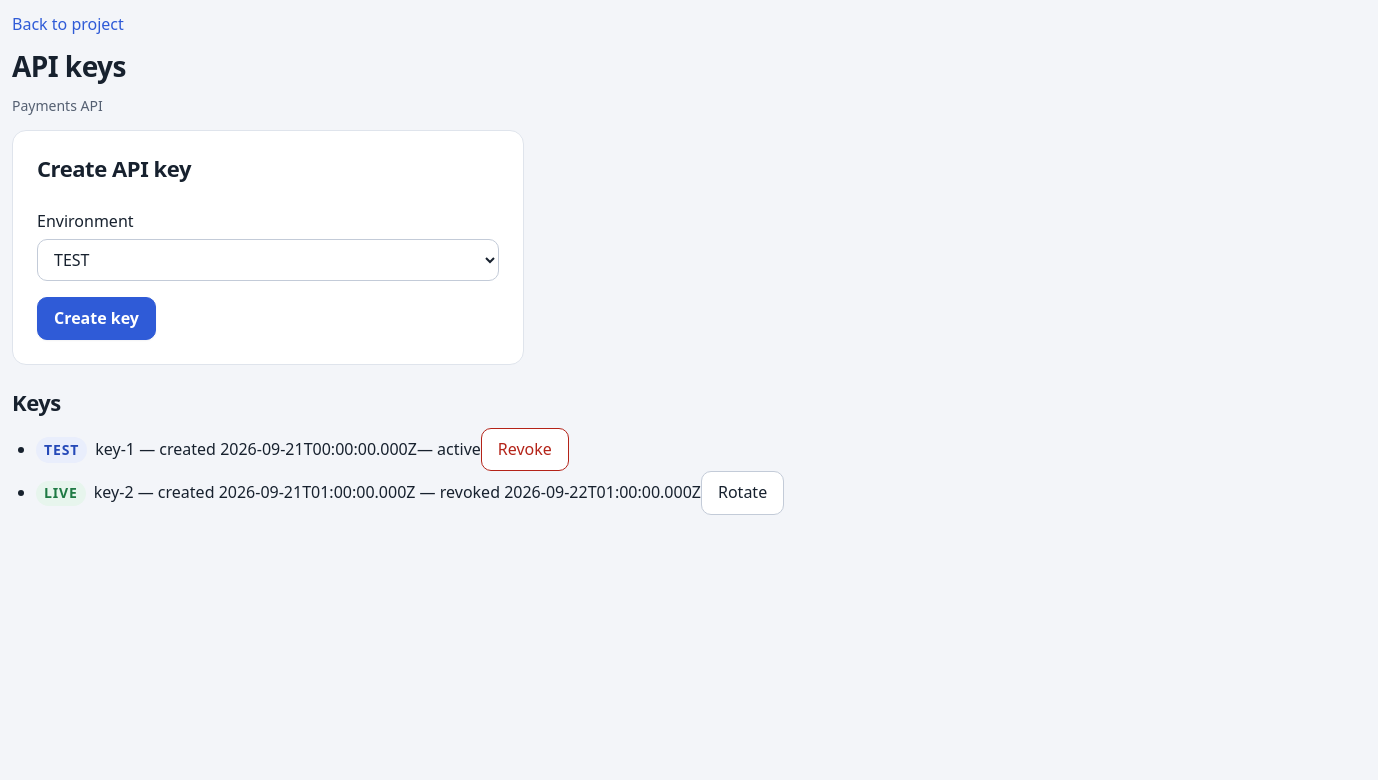
Test: API-key management page (phase 5 §5.2) › create reveals the plaintext exactly once with a copy button and warning
This screenshot has width=1378, height=780.
Expected: the heading "API keys" is shown, [12,47,126,85]
Expected: the button "Create key" is shown, [37,297,156,340]
Select "LIVE" in the dropdown labelled "Environment" at {"x": 268, "y": 260}, box [37,239,499,281]
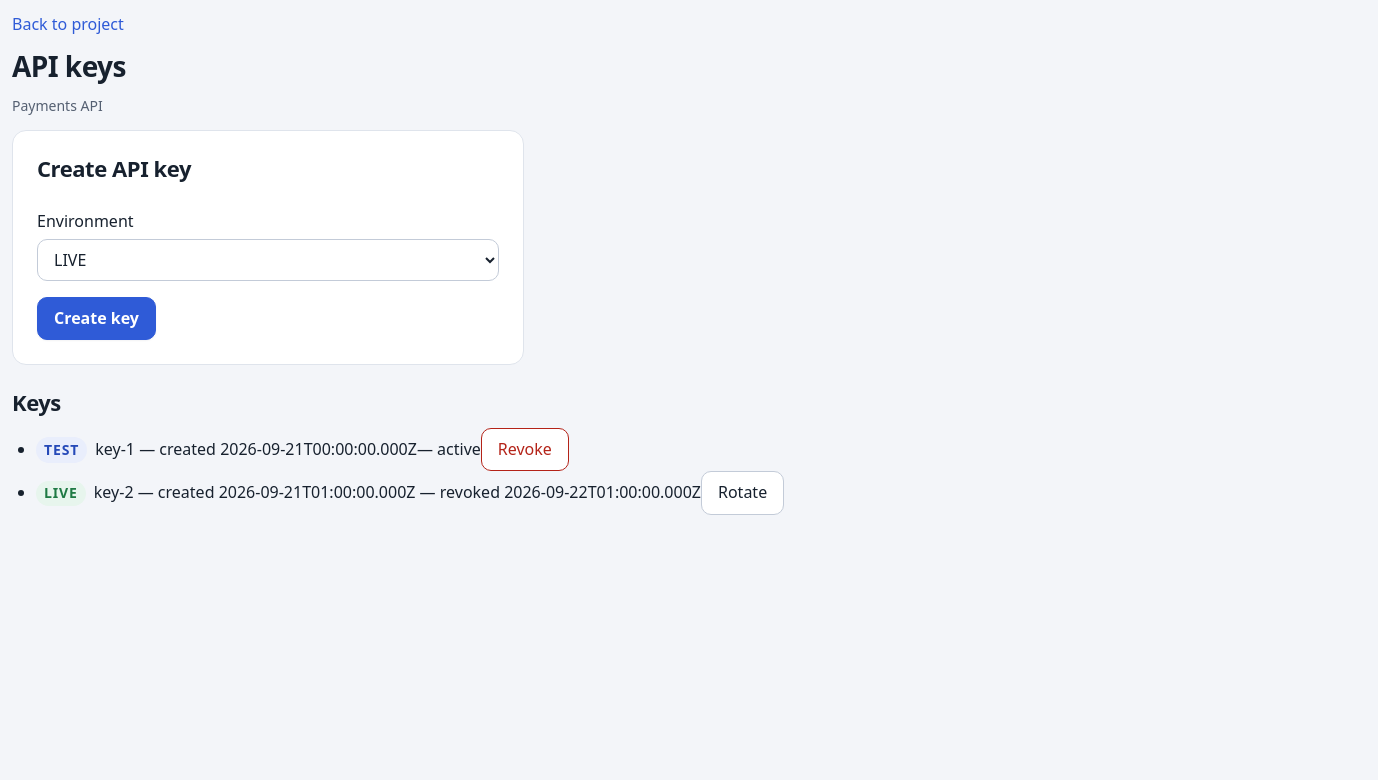
Click the button "Create key".
click(96, 318)  # box [37,297,156,340]
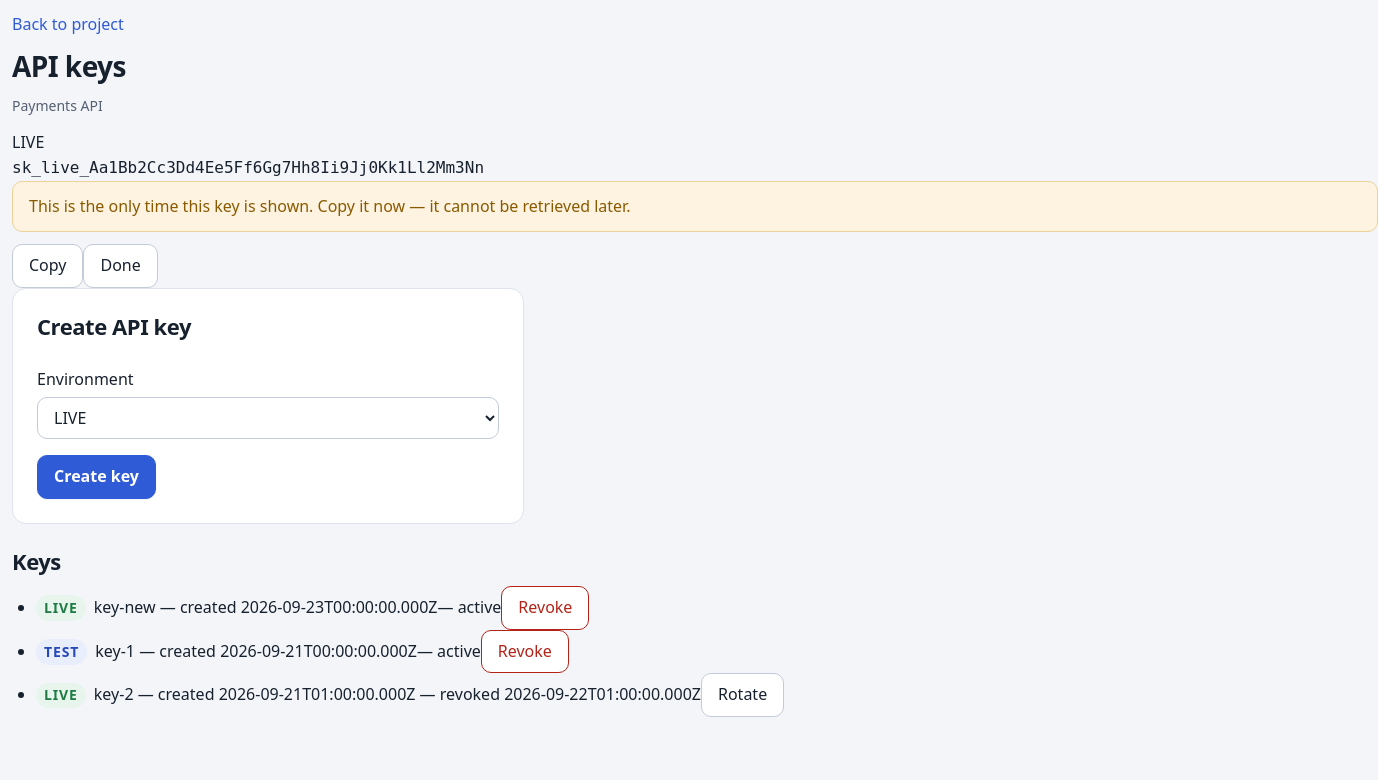
Expected: the text "This is the only time this key is shown" is shown, [29,195,630,217]
Expected: the button "Copy" is shown, [12,244,84,288]
